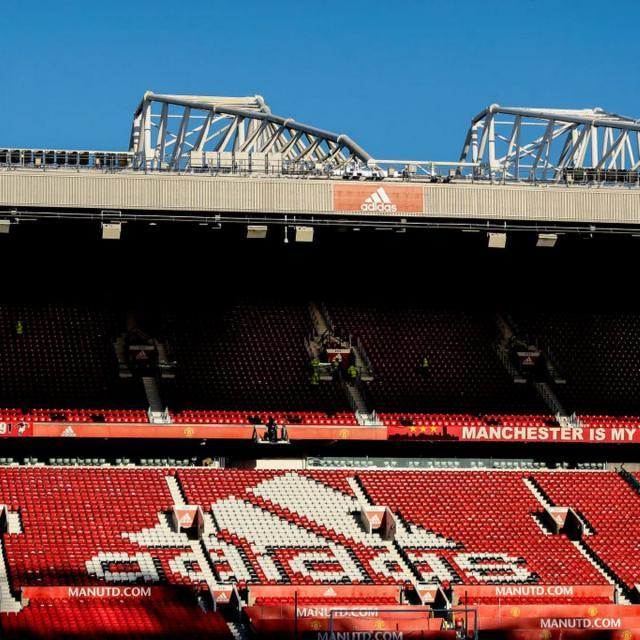Adidas: (90, 464, 534, 586), (360, 183, 400, 213)
